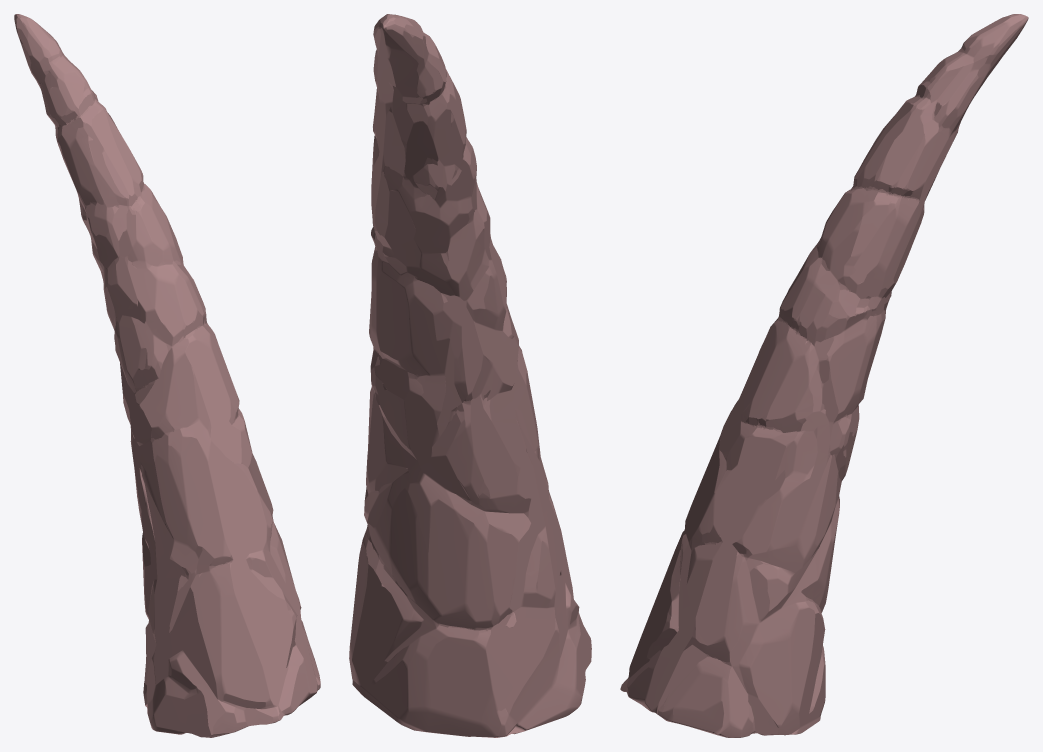
The model's file is sea.fbx_Cone__2_LODs.fbx.
3 views of the same model, side by side, from view 1: azimuth 30°, elevation 25°; view 2: azimuth 150°, elevation 25°; view 3: azimuth 270°, elevation 25° (orthographic). The views are drawn at different scales.
Visible parts, largest first — view 1: Cone (2)_LOD0; view 2: Cone (2)_LOD0; view 3: Cone (2)_LOD0.
Part boxes in pixels (<box>): Cone (2)_LOD0: <box>14,14,320,737</box>; Cone (2)_LOD0: <box>349,14,591,737</box>; Cone (2)_LOD0: <box>620,14,1028,737</box>.
Size of what is drawn, in the model's own units: 2803 by 10044 by 5557.
